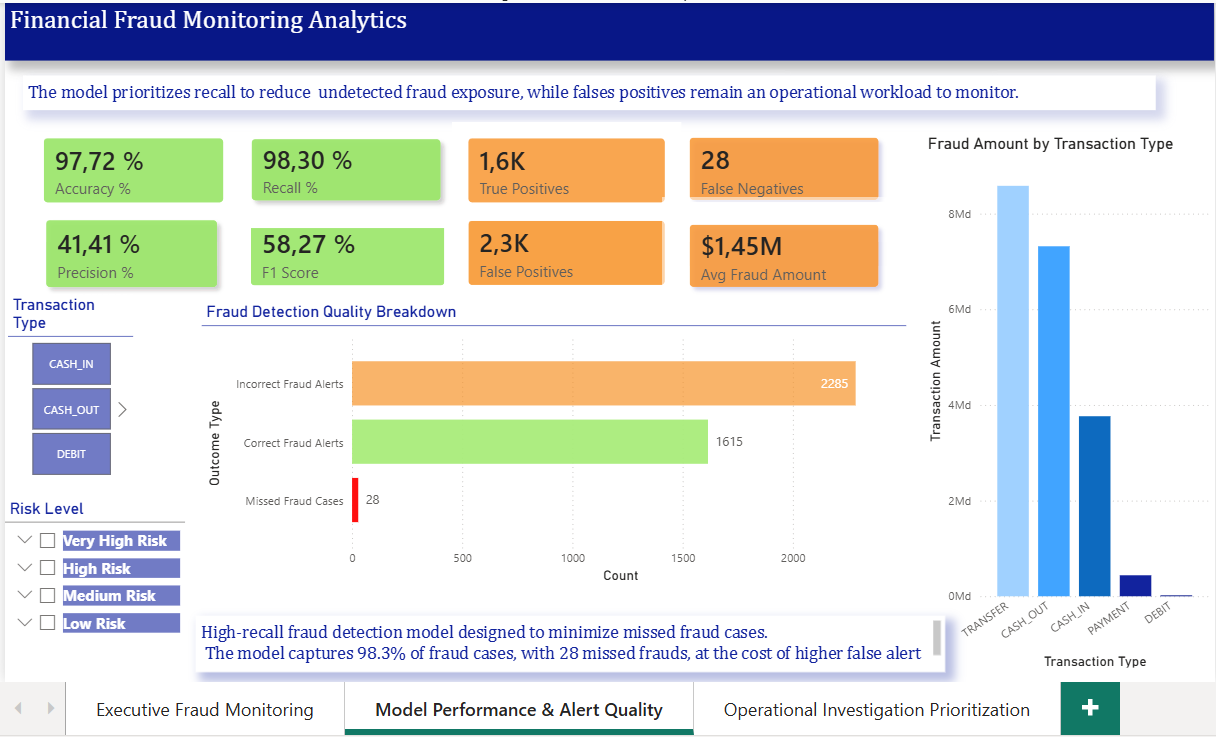

This screenshot's page, from the dashboard's own definition file:
{"tool":"powerbi","page":{"name":"Model Performance & Alert Quality","canvas":[1280,720],"ordinal":1},"visuals":[{"type":"cardVisual","fields":{"Data":["fraud_predictions.F1 Score"]},"box":[242.6,216.2,239.7,101.5],"z":0},{"type":"cardVisual","fields":{"Data":["fraud_predictions.Precision %"]},"box":[14.7,201.5,239.7,129.4],"z":1000},{"type":"cardVisual","fields":{"Data":["fraud_predictions.Recall %"]},"box":[232.4,116.2,258.8,123.5],"z":2000},{"type":"cardVisual","fields":{"Data":["fraud_predictions.False Positives"]},"box":[824.6,61.5,224.6,64.6],"z":3000},{"type":"cardVisual","fields":{"Data":["fraud_predictions.False Negatives"]},"box":[695.6,114.7,258.8,125],"z":4000},{"type":"cardVisual","fields":{"Data":["fraud_predictions.Accuracy %"]},"box":[23.5,126.5,225,102.9],"z":5000},{"type":"slicer","title":"Transaction Type","fields":{"Values":["fraud_predictions.typeTransaction"]},"box":[2.9,310.3,132.4,197.1],"z":6000},{"type":"slicer","title":"Risk Level","fields":{"Values":["fraud_predictions.Risk Band","fraud_predictions.Risk Order"]},"box":[0,525.4,190.5,169.8],"z":7000},{"type":"textbox","box":[0,0,1279.4,61.8],"z":8000},{"type":"textbox","box":[19,77.8,1198.4,36.5],"z":9000},{"type":"cardVisual","fields":{"Data":["fraud_predictions.False Positives"]},"box":[473.5,214.7,242.6,102.9],"z":10000},{"type":"cardVisual","fields":{"Data":["fraud_predictions.True Positives"]},"box":[473.5,126.5,242.6,102.9],"z":11000},{"type":"cardVisual","fields":{"Data":["fraud_predictions.Avg Fraud Amount"]},"box":[695.6,205.9,258.8,125],"z":12000},{"type":"columnChart","title":"Fraud Amount by Transaction Type","fields":{"Category":["fraud_predictions.typeTransaction"],"Y":["Sum(fraud_predictions.amount)"]},"box":[971.4,139.7,307.9,569.8],"z":13000},{"type":"barChart","title":"Fraud Detection Quality Breakdown","fields":{"Category":["Fraud_Outcome_Table.Outcome Type"],"Y":["Sum(Fraud_Outcome_Table.Count)"]},"box":[207.9,317.5,746,301.6],"z":14000},{"type":"textbox","box":[201.6,649.2,793.7,60.3],"z":15000}]}

Visuals, with their boxes on the page's 1280x720 design canvas (x1, y1, x2, y2). These are canvas units, not pixel positions in the 1216x737 screenshot, which may show the page scaled, cropped or inside an application window:
cardVisual - fraud_predictions.F1 Score: box(243, 216, 482, 318)
cardVisual - fraud_predictions.Precision %: box(15, 202, 254, 331)
cardVisual - fraud_predictions.Recall %: box(232, 116, 491, 240)
cardVisual - fraud_predictions.False Positives: box(825, 62, 1049, 126)
cardVisual - fraud_predictions.False Negatives: box(696, 115, 954, 240)
cardVisual - fraud_predictions.Accuracy %: box(24, 126, 248, 229)
"Transaction Type" slicer: box(3, 310, 135, 507)
"Risk Level" slicer: box(0, 525, 190, 695)
textbox: box(0, 0, 1279, 62)
textbox: box(19, 78, 1217, 114)
cardVisual - fraud_predictions.False Positives: box(474, 215, 716, 318)
cardVisual - fraud_predictions.True Positives: box(474, 126, 716, 229)
cardVisual - fraud_predictions.Avg Fraud Amount: box(696, 206, 954, 331)
"Fraud Amount by Transaction Type" columnChart: box(971, 140, 1279, 710)
"Fraud Detection Quality Breakdown" barChart: box(208, 318, 954, 619)
textbox: box(202, 649, 995, 710)
